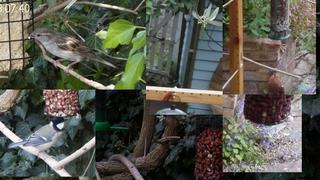great tit: (7, 116, 69, 162)
sparrow: (27, 27, 119, 77)
